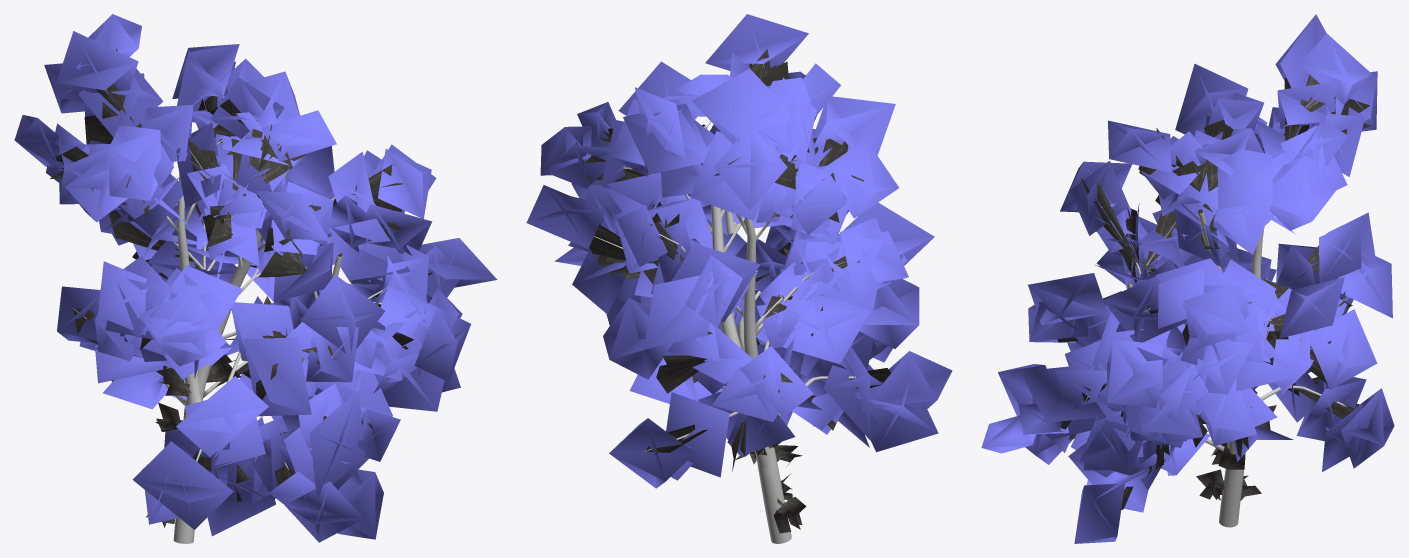
Rendered from Birch_8.fbx.
3 views of the same model, side by side, from view 1: azimuth 30°, elevation 25°; view 2: azimuth 150°, elevation 25°; view 3: azimuth 270°, elevation 25° (orthographic). The views are drawn at different scales.
Parts seen in each view (by area): view 1: Birch_8; view 2: Birch_8; view 3: Birch_8.
Part boxes in pixels (left/top/right/bottom): Birch_8: left=14, top=14, right=497, bottom=543; Birch_8: left=526, top=14, right=952, bottom=543; Birch_8: left=981, top=14, right=1394, bottom=543.
Bounding box in the file's own units: 21.59 × 27.89 × 21.72.
